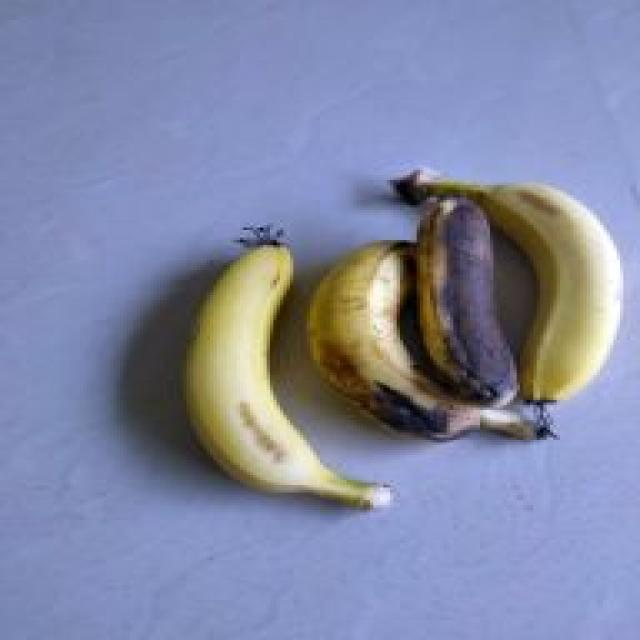Wet: (300, 235, 550, 440), (403, 190, 517, 410)
